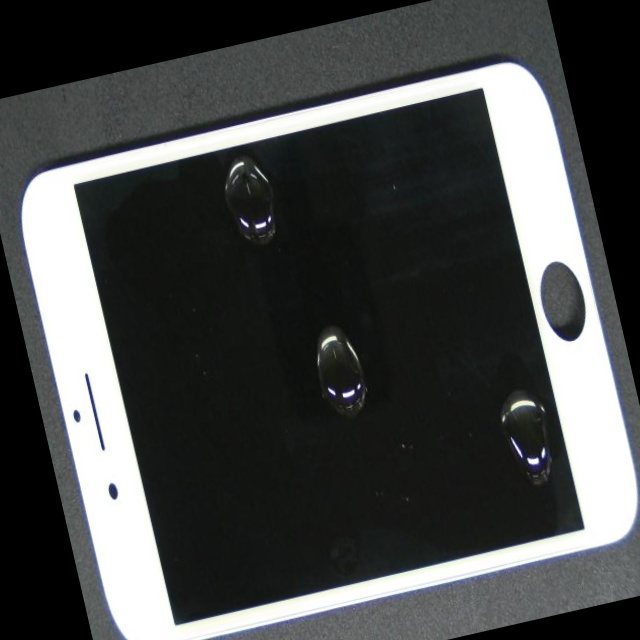oil: (285, 198, 640, 640), (180, 159, 526, 505), (131, 87, 396, 249)
